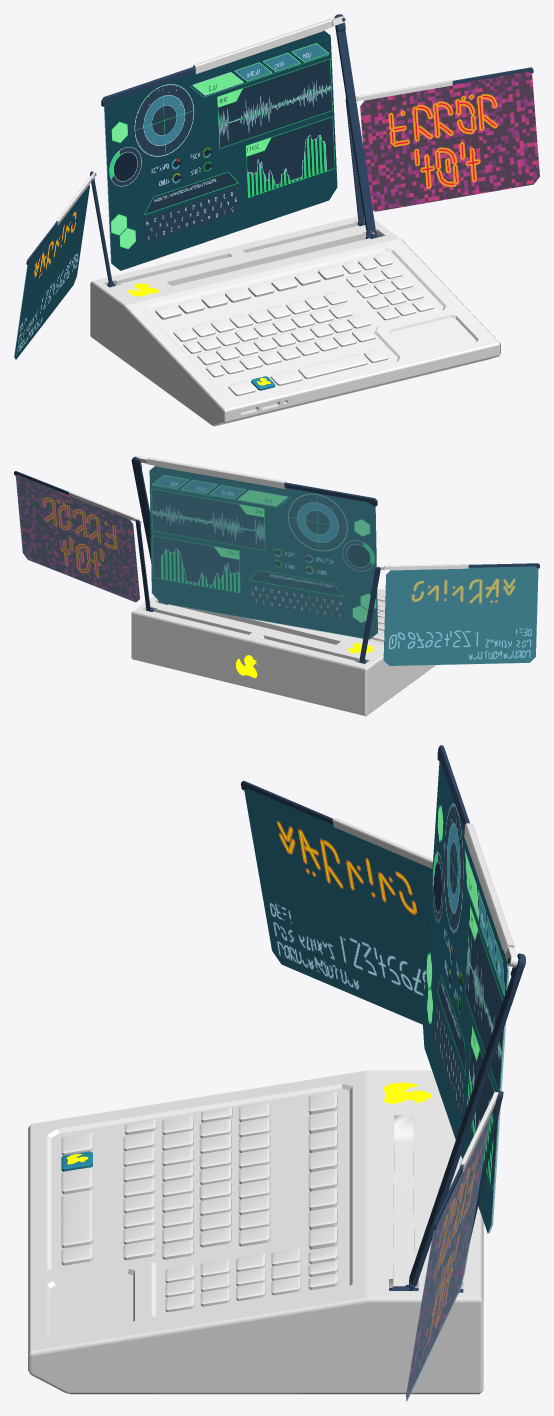
The model's file is Misc_Duckputer_A.glb.
3 renders of one model, top to bottom at view 1: azimuth 30°, elevation 25°; view 2: azimuth 150°, elevation 25°; view 3: azimuth 270°, elevation 25°, orthographic. The views are drawn at different scales.
Parts seen in each view (by area): view 1: Misc_Duckputer_A.001; view 2: Misc_Duckputer_A.001; view 3: Misc_Duckputer_A.001.
Part boxes in pixels (x1,y1,x2,y2): Misc_Duckputer_A.001: (14, 14, 539, 426); Misc_Duckputer_A.001: (14, 455, 539, 716); Misc_Duckputer_A.001: (28, 745, 525, 1401).
Size of the model in its own units: 0.671 by 0.2845 by 0.3007.
9 materials, 2 textured.
